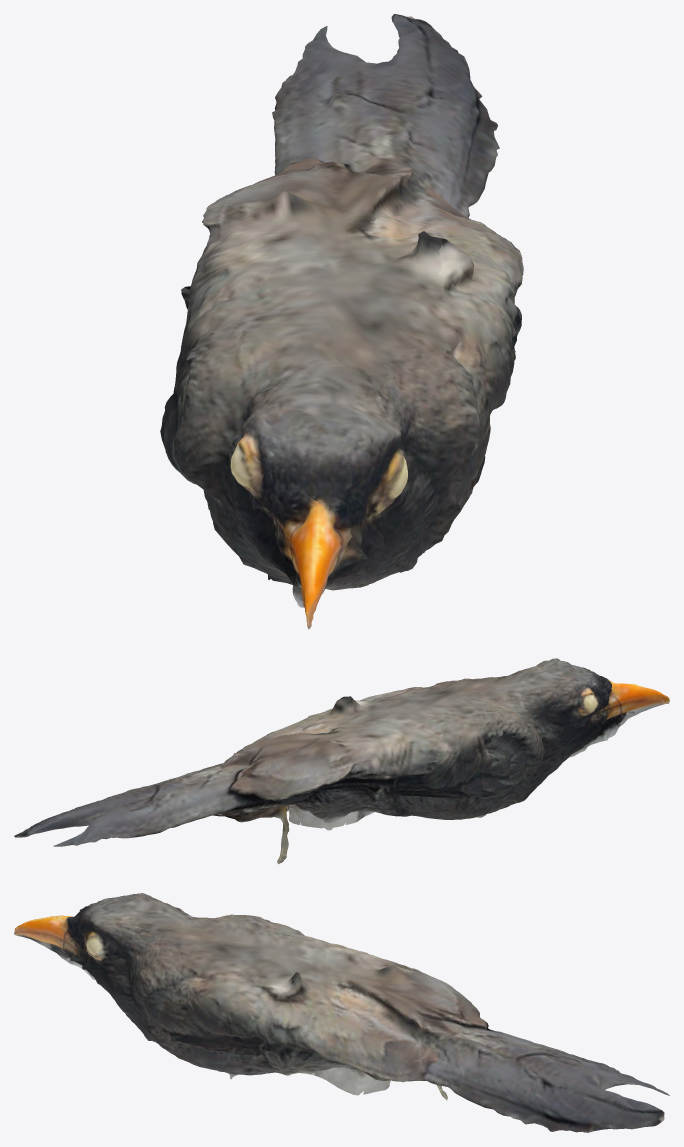
The model's file is nm__nunbird.glb.
The picture shows the model from 3 angles, top to bottom: view 1: azimuth 30°, elevation 25°; view 2: azimuth 150°, elevation 25°; view 3: azimuth 270°, elevation 25°; orthographic projection. The views are drawn at different scales.
Parts seen in each view (by area): view 1: Object_4; view 2: Object_4; view 3: Object_4.
Boxes of the visible parts, x1,y1,x2,y2 form: Object_4: [160, 14, 523, 629]; Object_4: [14, 658, 669, 864]; Object_4: [14, 893, 669, 1132].
Size of the model in its own units: 0.1566 by 0.0523 by 0.2297.
Materials: 1 (1 with a texture image).
